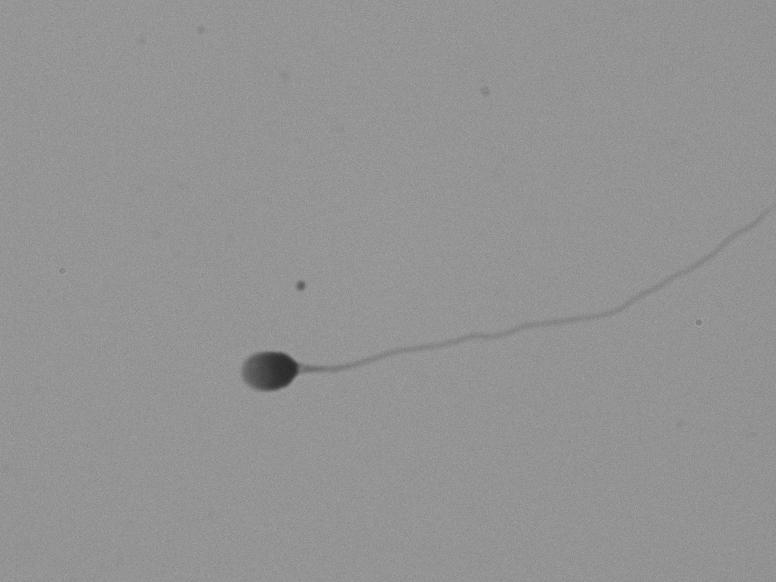Normal: (175, 214, 760, 456)
